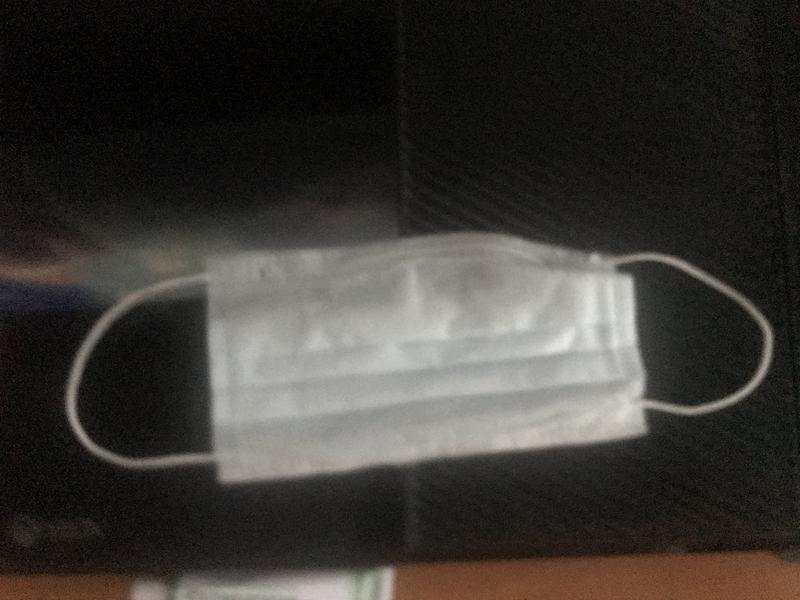medical_mask: (64, 234, 773, 486)
